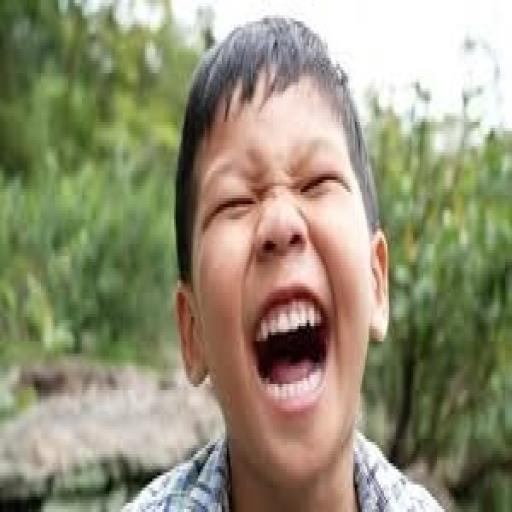laughing: (111, 9, 450, 506)
